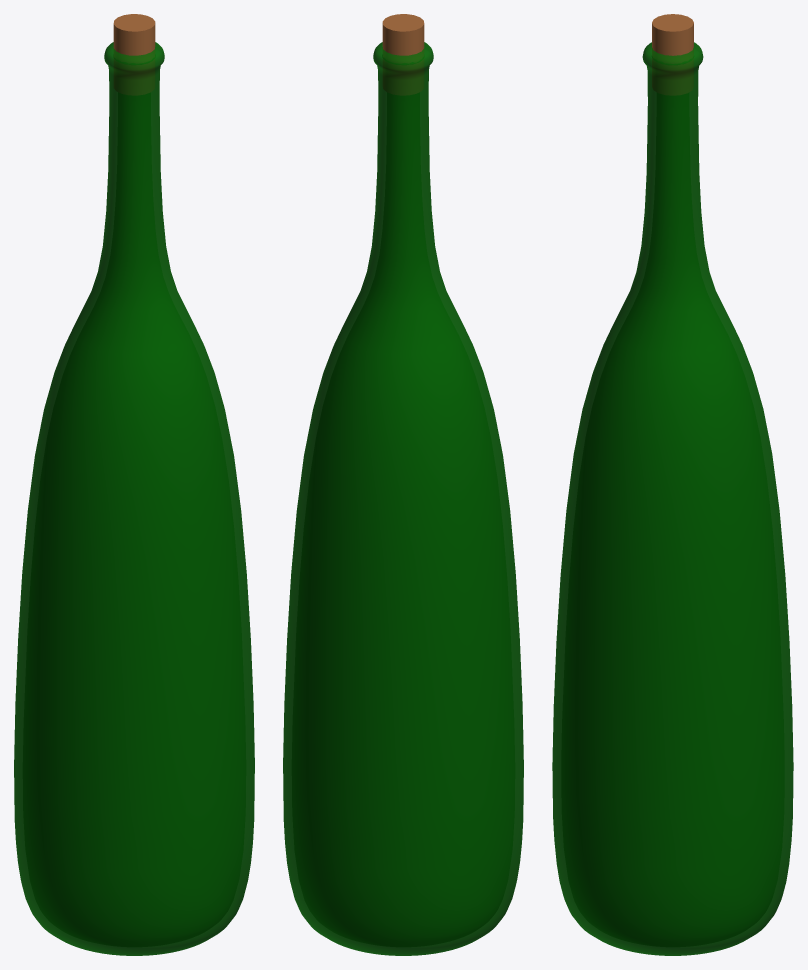
File: champagne.fbx
3 renders of one model, left to right at view 1: azimuth 30°, elevation 25°; view 2: azimuth 150°, elevation 25°; view 3: azimuth 270°, elevation 25°, orthographic.
Parts seen in each view (by area): view 1: bottle_2, cork_2; view 2: bottle_2, cork_2; view 3: bottle_2, cork_2.
Boxes of the visible parts, x1,y1,x2,y2 form: bottle_2: (14, 42, 254, 955); cork_2: (113, 14, 155, 95); bottle_2: (283, 42, 523, 955); cork_2: (382, 14, 424, 95); bottle_2: (552, 42, 793, 955); cork_2: (652, 14, 693, 95).
Bounding box in the file's own units: 0.5501 × 2.27 × 0.5501.
